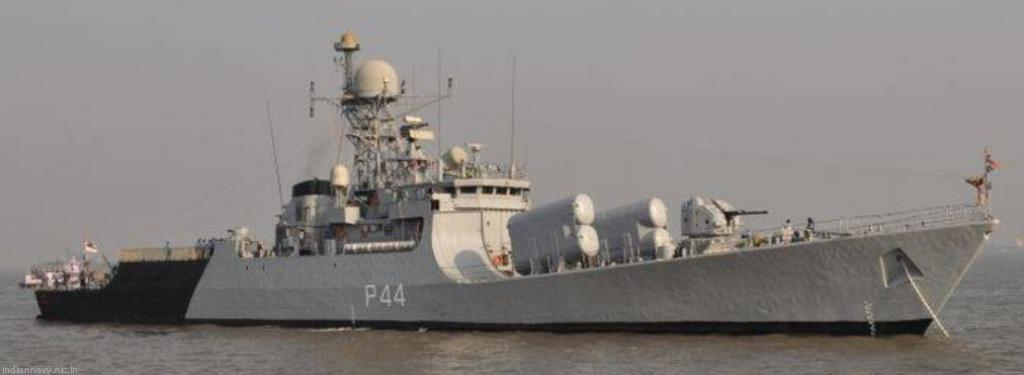Warship: (32, 25, 1004, 342)
